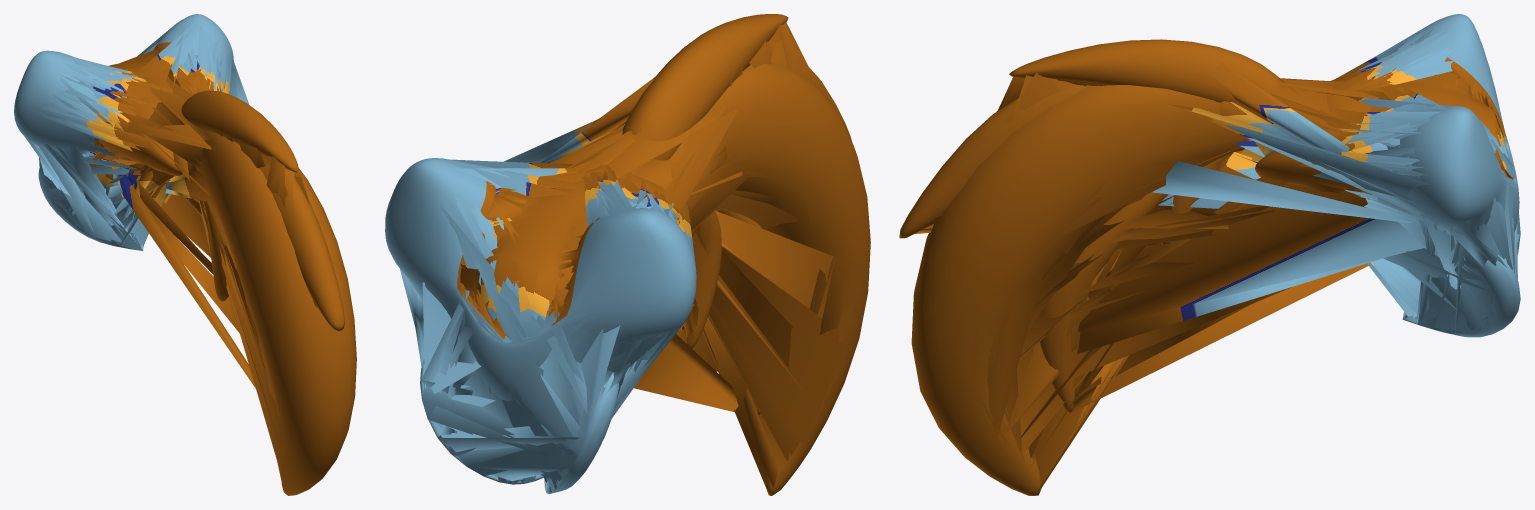
File: roadrunner_standing.obj
3 renders of one model, left to right at view 1: azimuth 30°, elevation 25°; view 2: azimuth 150°, elevation 25°; view 3: azimuth 270°, elevation 25°, orthographic. The views are drawn at different scales.
Parts seen in each view (by area): view 1: RoadRunner_Standing; view 2: RoadRunner_Standing; view 3: RoadRunner_Standing.
Part boxes in pixels (<box>): RoadRunner_Standing: <box>14,14,356,495</box>; RoadRunner_Standing: <box>385,14,870,495</box>; RoadRunner_Standing: <box>899,14,1520,495</box>.
Bounding box in the file's own units: 11.34 × 17.94 × 22.24.
Materials: 1 (1 with a texture image).
